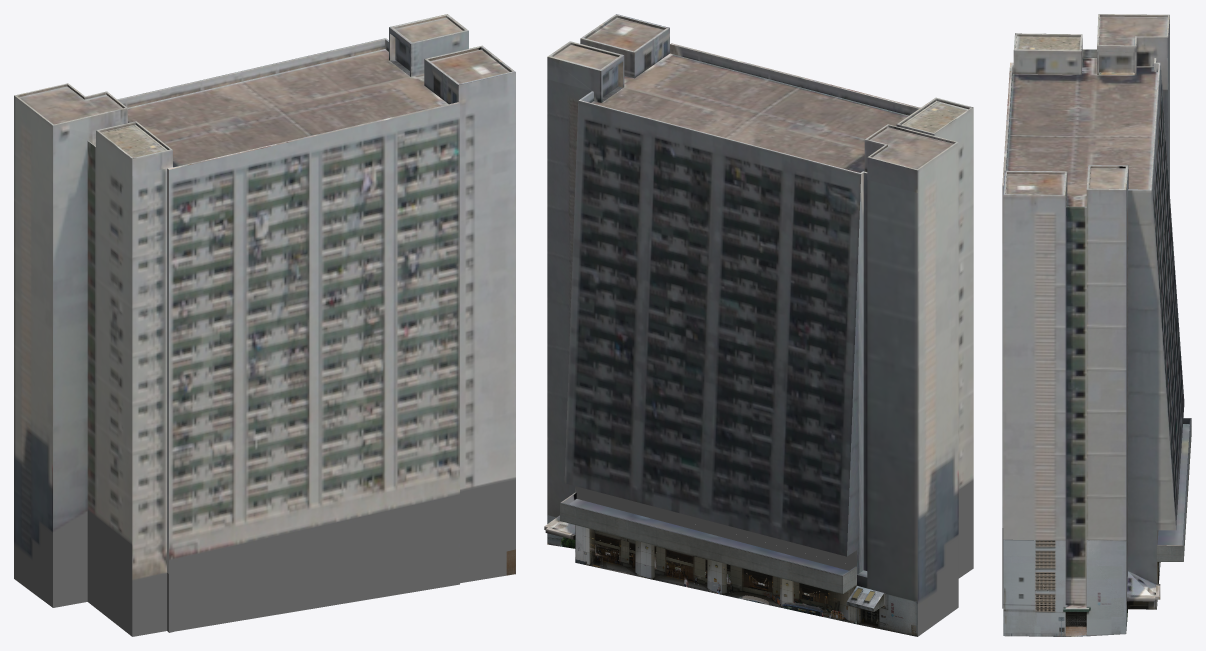
Rendered from garfield_court.glb.
3 views of the same model, side by side, from view 1: azimuth 30°, elevation 25°; view 2: azimuth 150°, elevation 25°; view 3: azimuth 270°, elevation 25° (orthographic). The views are drawn at different scales.
Parts seen in each view (by area): view 1: B373962226201063A0; view 2: B373962226201063A0; view 3: B373962226201063A0.
Boxes of the visible parts, x1=… form: B373962226201063A0: x1=14, y1=14, x2=515, y2=636; B373962226201063A0: x1=544, y1=14, x2=973, y2=636; B373962226201063A0: x1=1002, y1=14, x2=1191, y2=636.
Size of the model in its own units: 53.6 by 63.17 by 24.25.
Materials: 3 (3 with a texture image).
